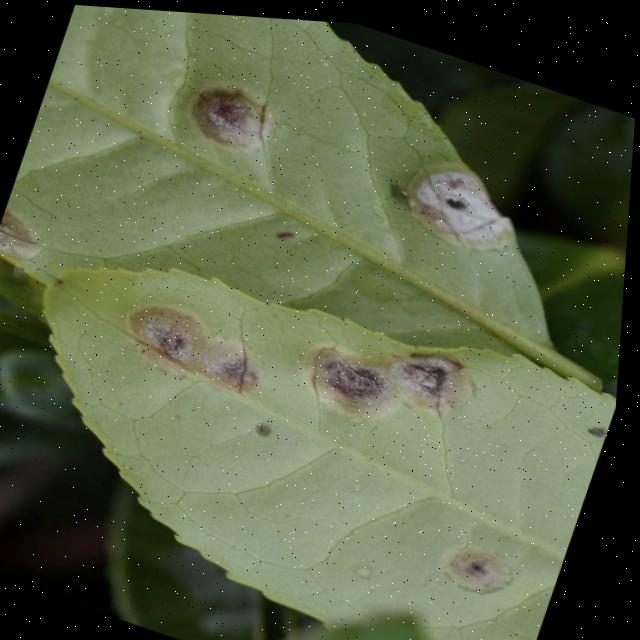Tea cake: (386, 143, 521, 249), (172, 52, 289, 155), (123, 283, 219, 378), (300, 325, 397, 407), (394, 329, 480, 406), (194, 317, 268, 394), (441, 528, 524, 593)
